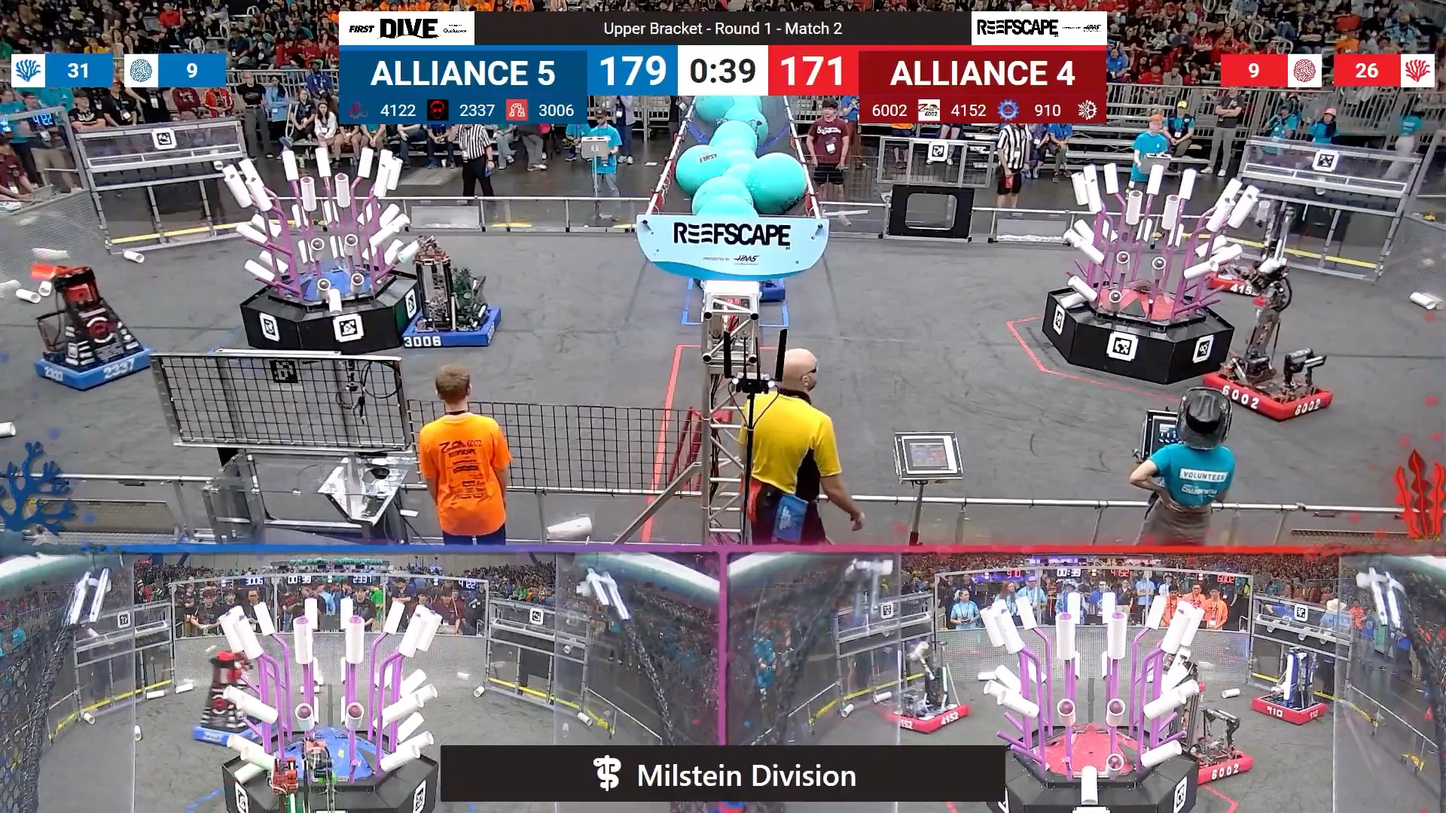bumpers: (1196, 364, 1341, 426), (32, 340, 164, 394), (398, 301, 507, 353), (1177, 738, 1259, 787), (876, 696, 975, 734), (185, 711, 273, 751), (1246, 693, 1335, 727)
